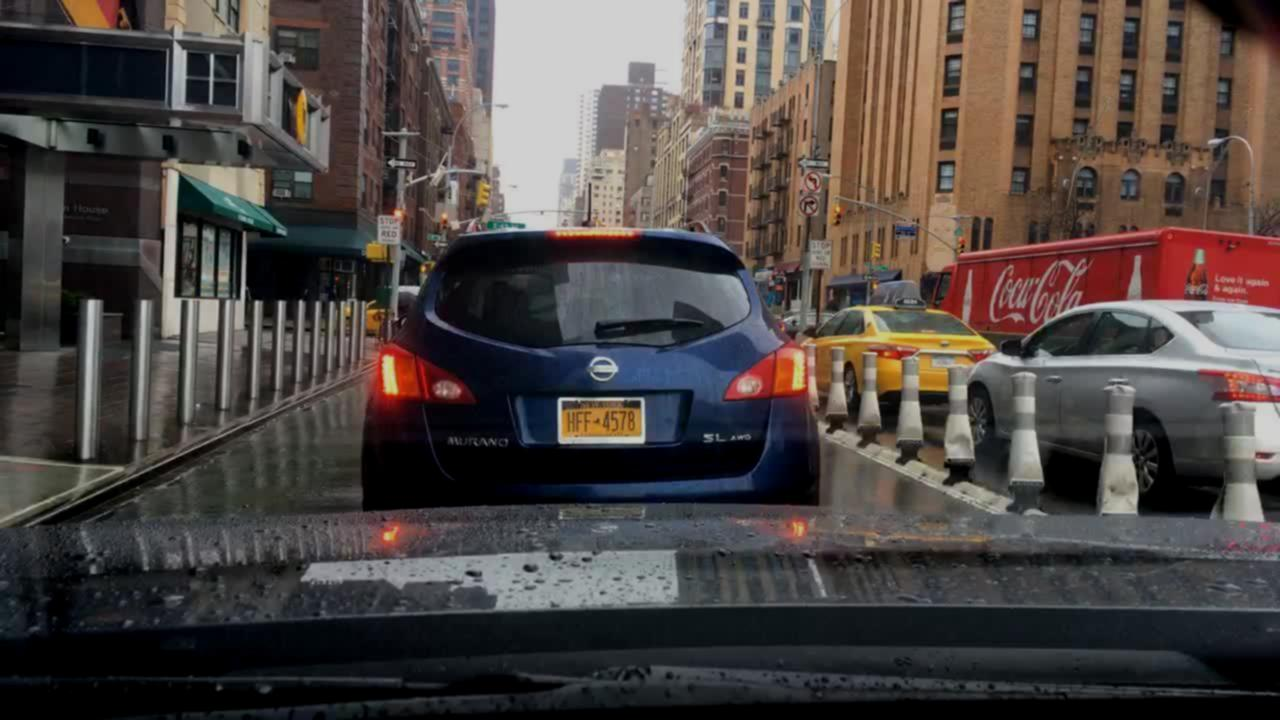Nissan: (578, 351, 631, 391)
